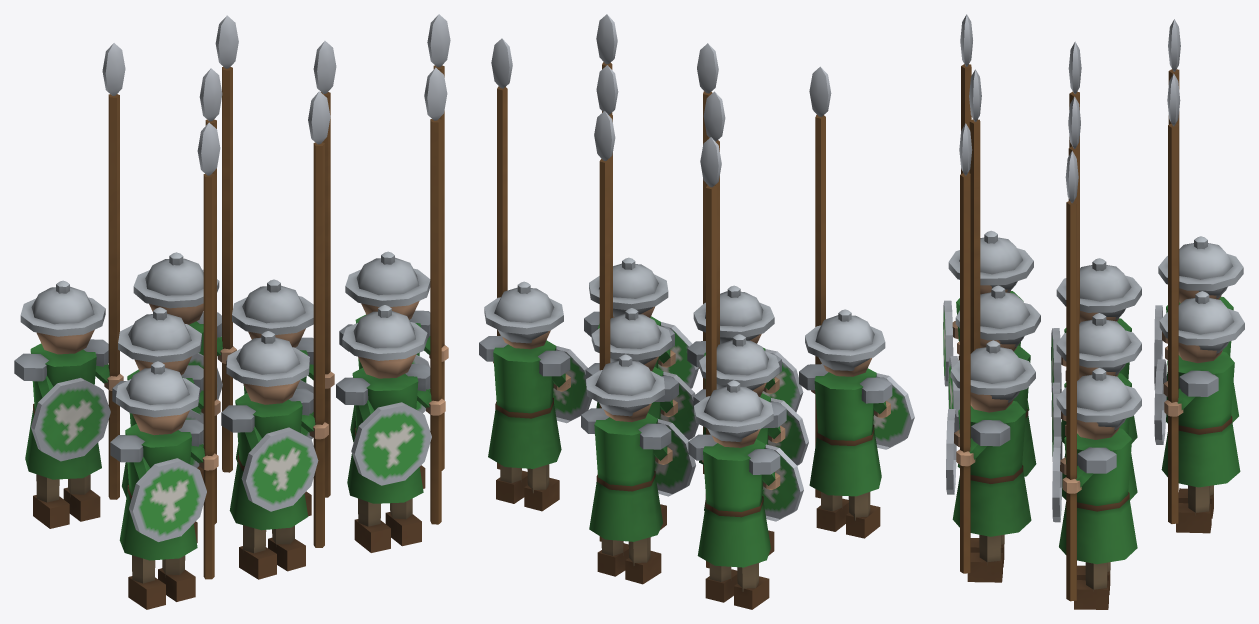
Rendered from squad_dl2_green.glb.
The picture shows the model from 3 angles, left to right: view 1: azimuth 30°, elevation 25°; view 2: azimuth 150°, elevation 25°; view 3: azimuth 270°, elevation 25°; orthographic projection. The views are drawn at different scales.
Visible parts, largest first — view 1: squad_dl2_green; view 2: squad_dl2_green; view 3: squad_dl2_green.
Part boxes in pixels (x1,y1,x2,y2): squad_dl2_green: (14, 14, 450, 609); squad_dl2_green: (479, 14, 914, 609); squad_dl2_green: (943, 14, 1244, 609).
Size of the model in its own units: 0.6701 by 0.7916 by 0.4652.
1 material, 1 textured.
